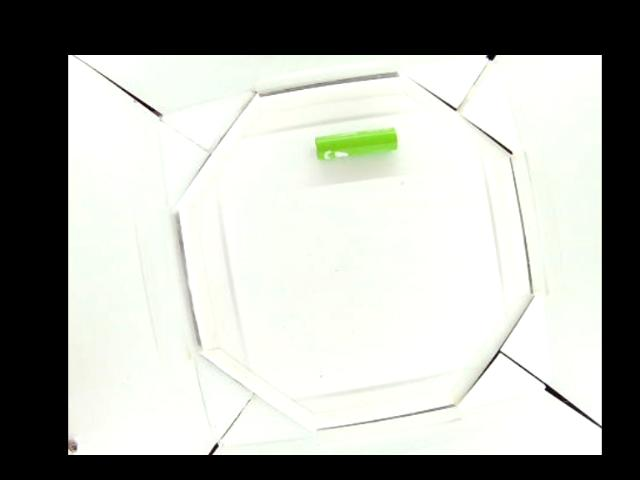Battery: (314, 127, 398, 157)
